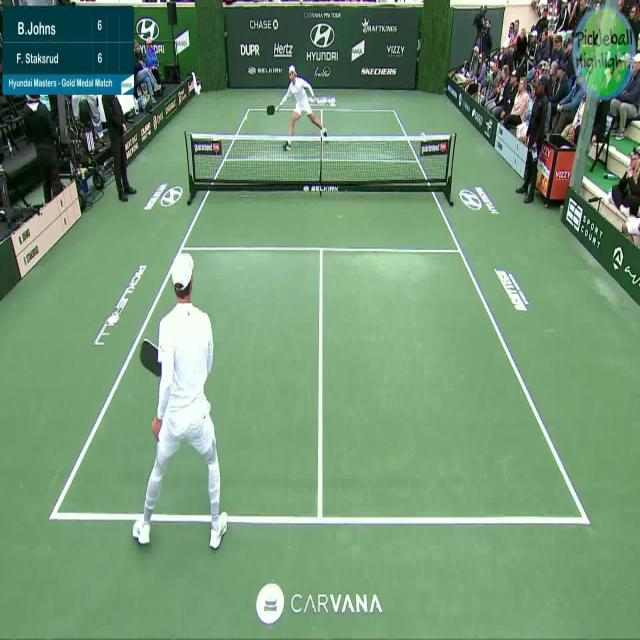ball: (243, 111, 249, 121)
